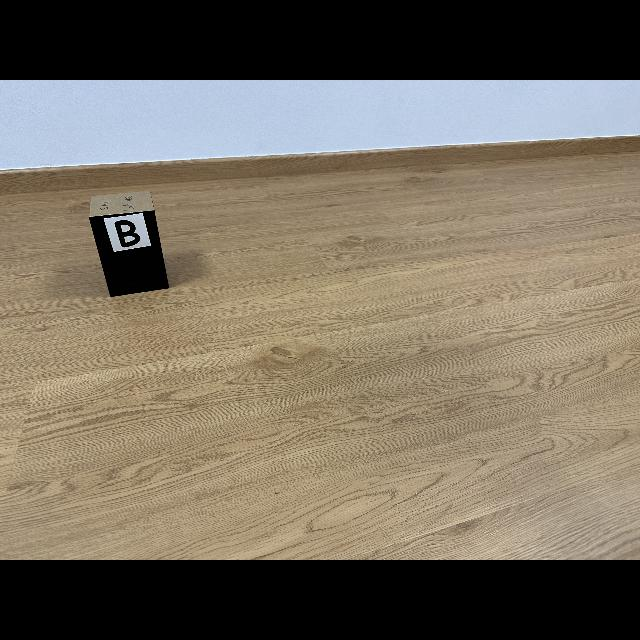B: (115, 220, 141, 248)
